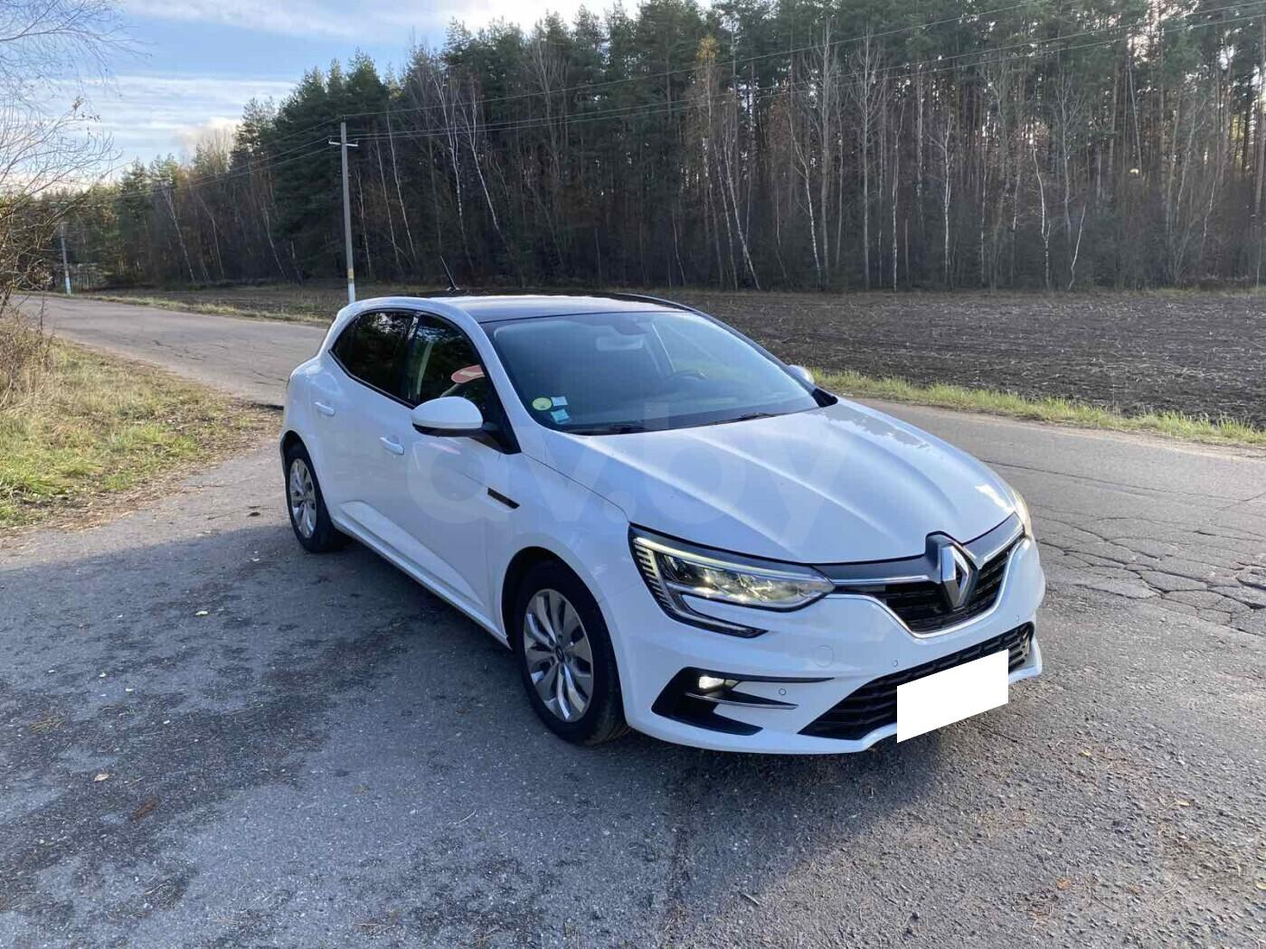Megane_2020: (273, 279, 1058, 775)
